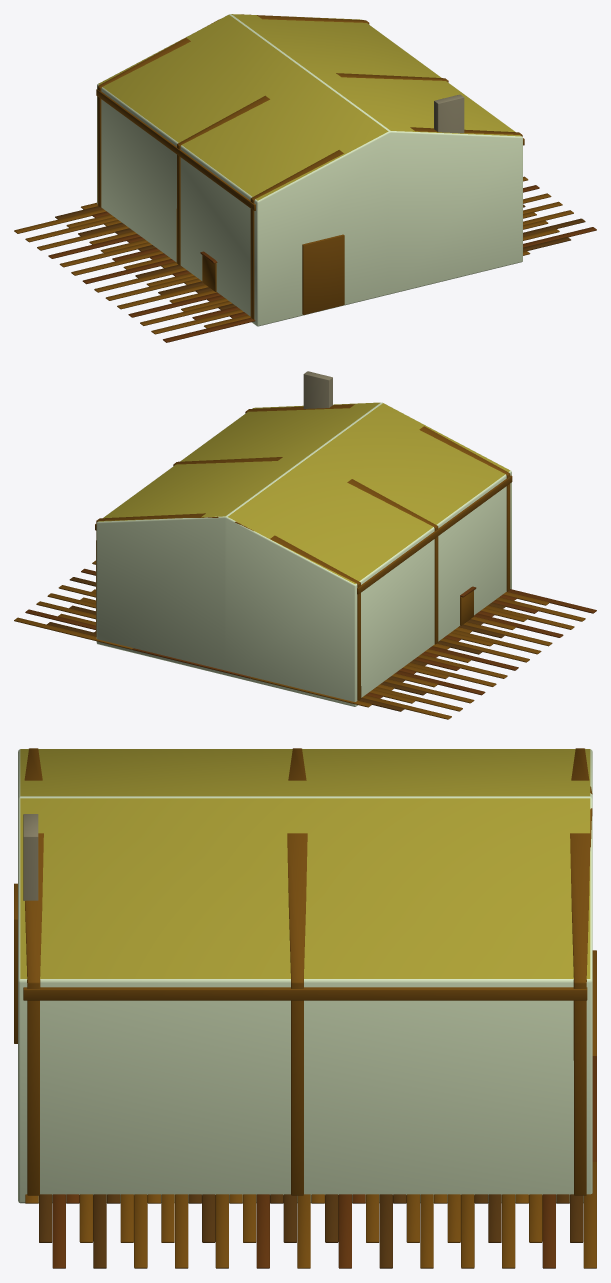
The model's file is tavern color.fbx.
3 renders of one model, top to bottom at view 1: azimuth 30°, elevation 25°; view 2: azimuth 150°, elevation 25°; view 3: azimuth 270°, elevation 25°, orthographic. The views are drawn at different scales.
Visible parts, largest first — view 1: walls, floor.001, floor, door, pillars.001, pillars, pillars.002, beam, fire place, bar; view 2: walls, floor, floor.001, pillars.001, pillars, pillars.002, beam, fire place; view 3: walls, floor, floor.001, beam.002, pillars.001, pillars, pillars.002, fire place.
Boxes of the visible parts, x1,y1,x2,y2 form: walls: [97, 14, 522, 326]; floor.001: [94, 176, 596, 342]; floor: [14, 202, 174, 284]; door: [302, 234, 344, 314]; pillars.001: [97, 14, 369, 207]; pillars: [176, 73, 448, 265]; pillars.002: [250, 127, 522, 319]; beam: [96, 89, 255, 210]; fire place: [434, 94, 464, 133]; bar: [200, 251, 217, 291]; walls: [96, 402, 511, 706]; floor: [14, 568, 518, 719]; floor.001: [92, 560, 596, 662]; pillars.001: [96, 513, 361, 700]; pillars: [173, 457, 438, 644]; pillars.002: [245, 404, 510, 591]; beam: [357, 475, 512, 594]; fire place: [303, 371, 332, 408]; walls: [18, 749, 592, 1203]; floor: [311, 950, 596, 1268]; floor.001: [25, 1194, 310, 1268]; beam.002: [23, 987, 587, 1000]; pillars.001: [570, 748, 592, 1195]; pillars: [287, 748, 307, 1195]; pillars.002: [24, 748, 43, 1195]; fire place: [23, 814, 38, 900].
Bounding box in the file's own units: 2530 × 982 × 1633.
